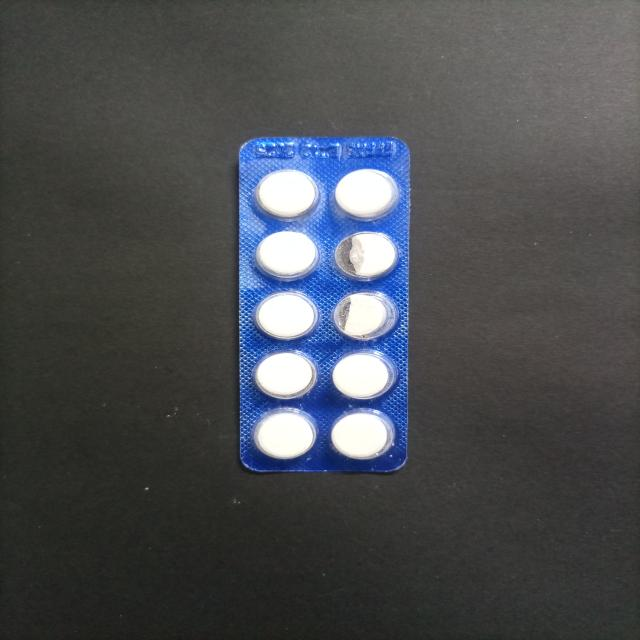defect: (329, 289, 402, 344), (331, 230, 402, 283)
